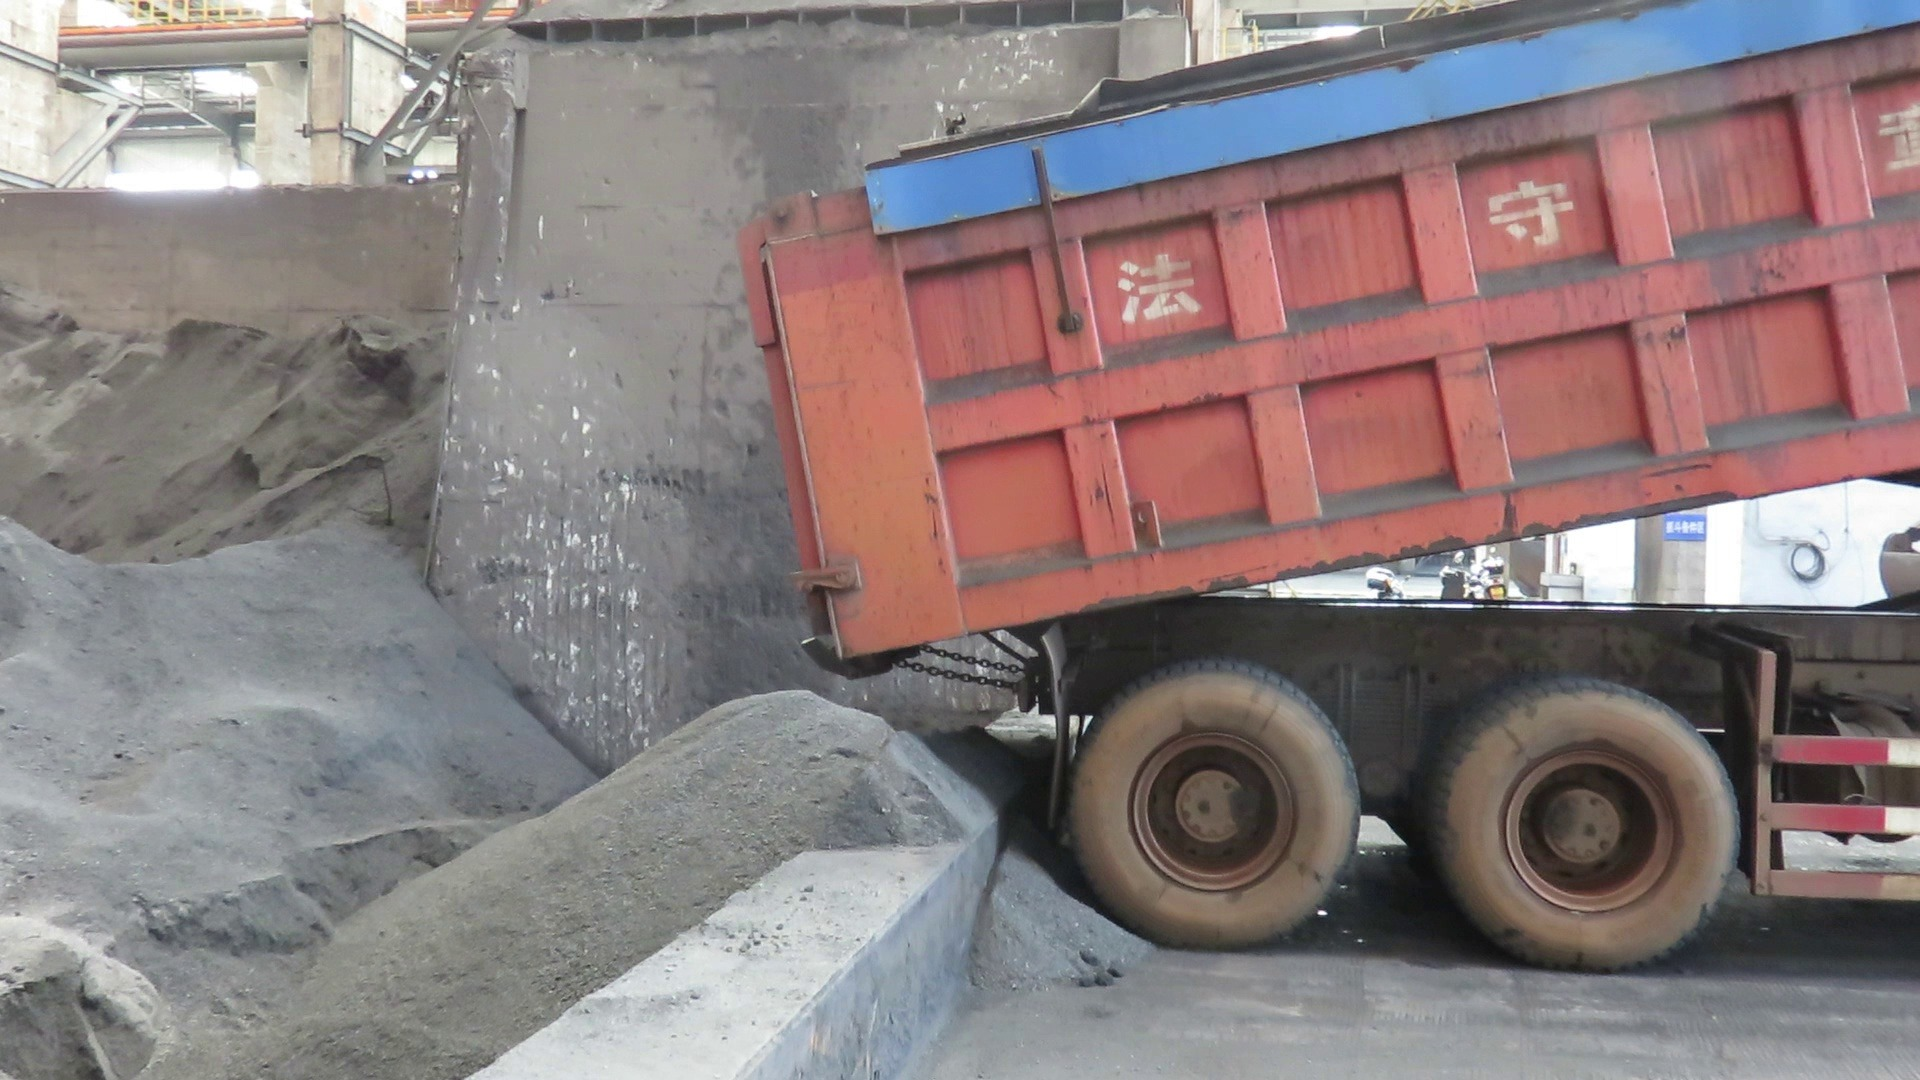truck: (728, 0, 1920, 988)
